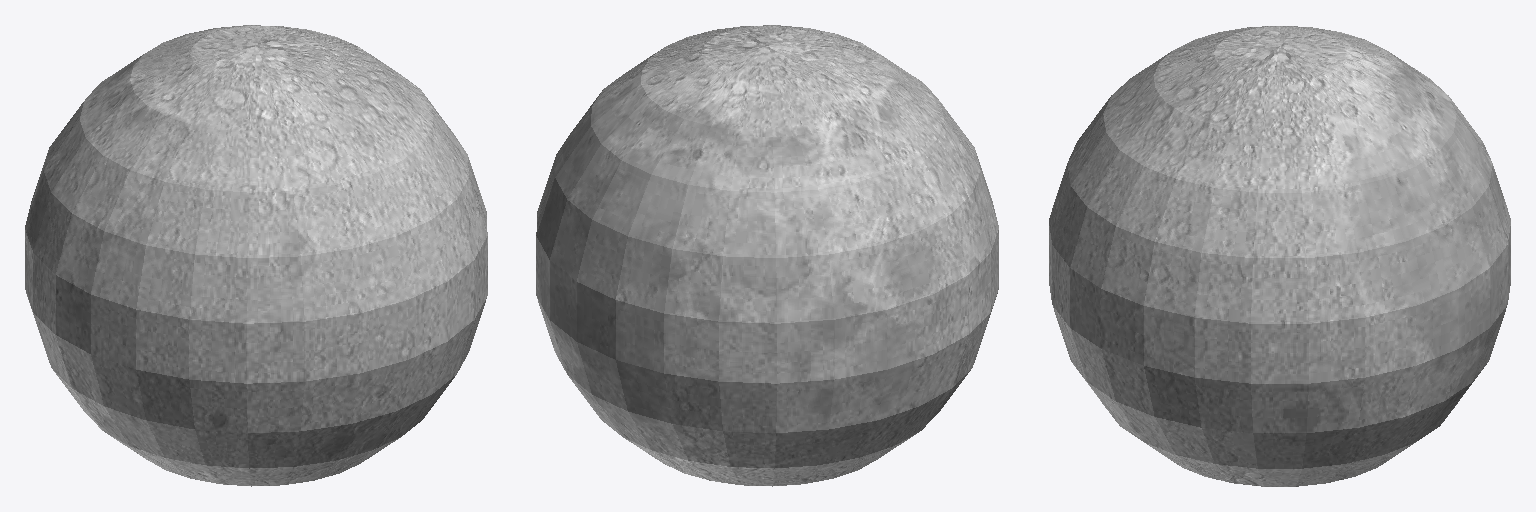
The picture shows the model from 3 angles: view 1: azimuth 30°, elevation 25°; view 2: azimuth 150°, elevation 25°; view 3: azimuth 270°, elevation 25°; orthographic projection.
Visible parts, largest first — view 1: Sphere; view 2: Sphere; view 3: Sphere.
Boxes of the visible parts, x1=… form: Sphere: x1=25, y1=25, x2=487, y2=486; Sphere: x1=536, y1=25, x2=998, y2=486; Sphere: x1=1049, y1=26, x2=1510, y2=486.
Size of the model in its own units: 1 by 1 by 1.
Materials: 1 (1 with a texture image).